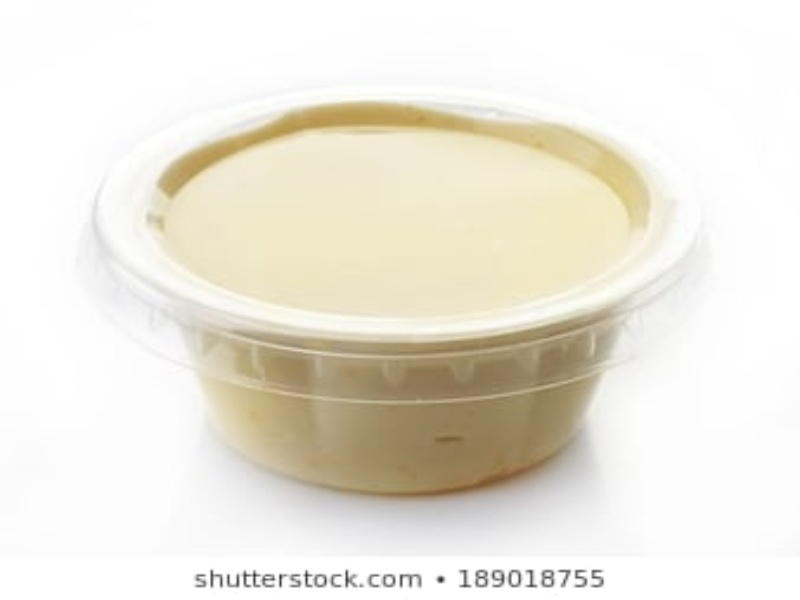plastic-container: (82, 78, 698, 498)
